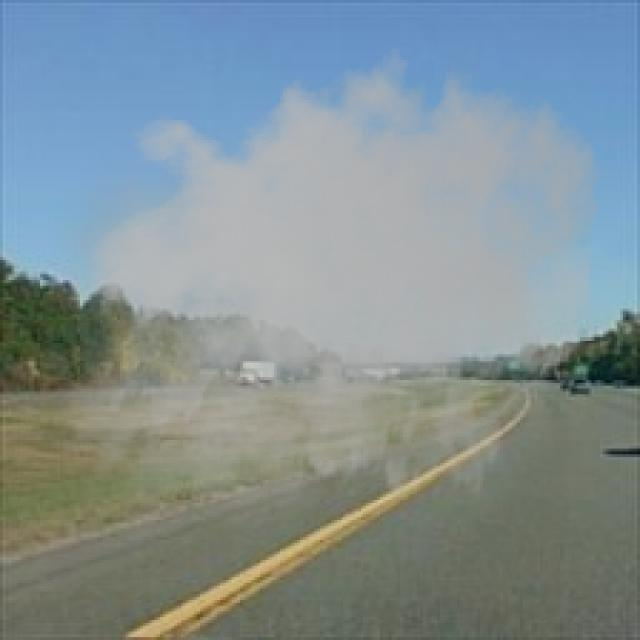smoke: (37, 31, 603, 560)
